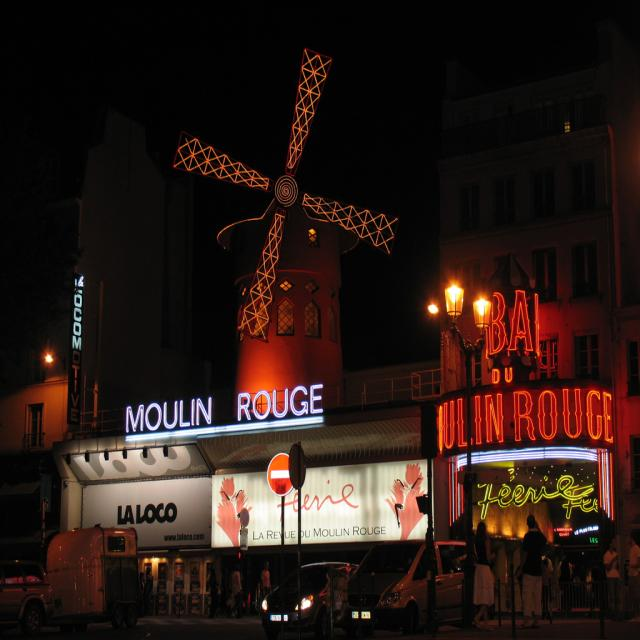Car: (246, 556, 477, 640)
